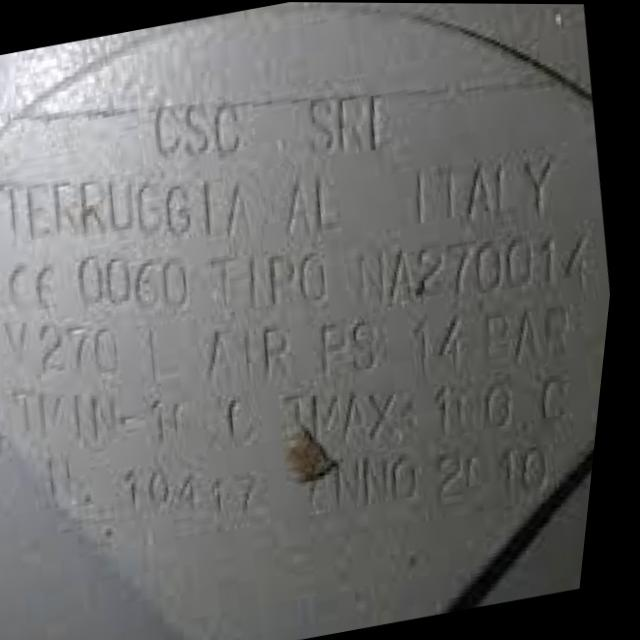ocr: (355, 215, 604, 315), (0, 173, 272, 248), (410, 139, 569, 232), (128, 459, 281, 533), (443, 439, 576, 518), (439, 371, 587, 435), (212, 244, 344, 315), (80, 248, 205, 319), (308, 383, 418, 458), (303, 83, 404, 164), (9, 316, 131, 383), (336, 442, 435, 524), (485, 295, 591, 371), (151, 89, 255, 166), (18, 383, 136, 447), (209, 317, 309, 390), (282, 164, 353, 246), (321, 308, 395, 384), (414, 304, 482, 377), (8, 257, 68, 322)
